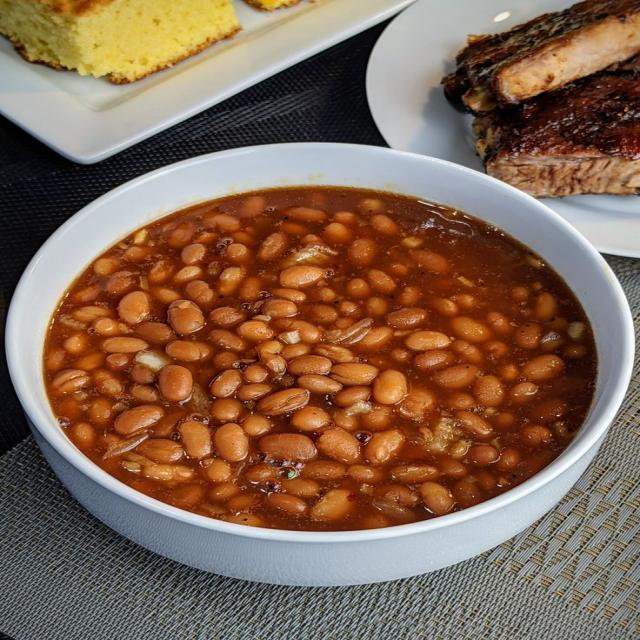beans: (45, 188, 595, 530), (259, 434, 317, 460), (317, 429, 360, 464), (114, 405, 164, 435), (364, 429, 405, 464), (258, 388, 309, 415), (311, 489, 353, 520), (214, 423, 248, 461), (158, 365, 193, 401), (168, 300, 204, 335), (398, 387, 436, 420), (373, 370, 408, 405), (179, 420, 211, 458), (432, 365, 479, 390), (420, 481, 454, 515), (137, 438, 183, 463), (522, 355, 564, 382), (451, 316, 491, 343), (118, 291, 150, 324), (331, 363, 378, 385), (280, 265, 324, 288), (529, 399, 570, 423), (390, 464, 439, 484), (292, 406, 331, 431), (165, 341, 211, 362), (456, 412, 493, 438), (474, 376, 505, 407), (374, 485, 419, 506), (134, 322, 175, 345), (356, 327, 393, 352), (297, 374, 342, 394), (288, 355, 332, 375), (405, 331, 451, 350), (142, 464, 193, 481), (361, 404, 393, 431), (210, 370, 242, 397), (303, 460, 346, 480), (216, 267, 245, 296), (208, 330, 248, 351), (236, 320, 274, 342), (412, 250, 448, 273), (53, 370, 89, 393), (451, 340, 484, 365), (414, 350, 455, 370), (513, 322, 542, 350), (387, 308, 427, 328), (333, 386, 371, 407), (282, 477, 320, 498), (267, 494, 306, 514), (209, 307, 246, 328), (348, 239, 376, 266), (314, 345, 356, 363), (101, 337, 148, 353), (211, 398, 242, 422), (261, 299, 298, 319), (310, 303, 345, 324), (87, 397, 113, 425), (520, 425, 553, 447), (367, 269, 396, 294), (242, 414, 273, 437), (236, 383, 275, 401), (533, 293, 558, 321), (347, 465, 383, 484), (244, 463, 277, 483), (323, 222, 353, 244), (468, 445, 499, 466), (285, 207, 327, 222), (495, 447, 521, 471), (443, 392, 475, 411), (371, 214, 399, 235), (224, 513, 266, 527), (510, 382, 538, 403), (270, 288, 306, 304), (209, 482, 239, 501), (181, 243, 206, 265), (439, 458, 467, 477), (487, 312, 510, 335), (242, 363, 269, 382), (365, 297, 389, 317), (347, 278, 371, 298)
